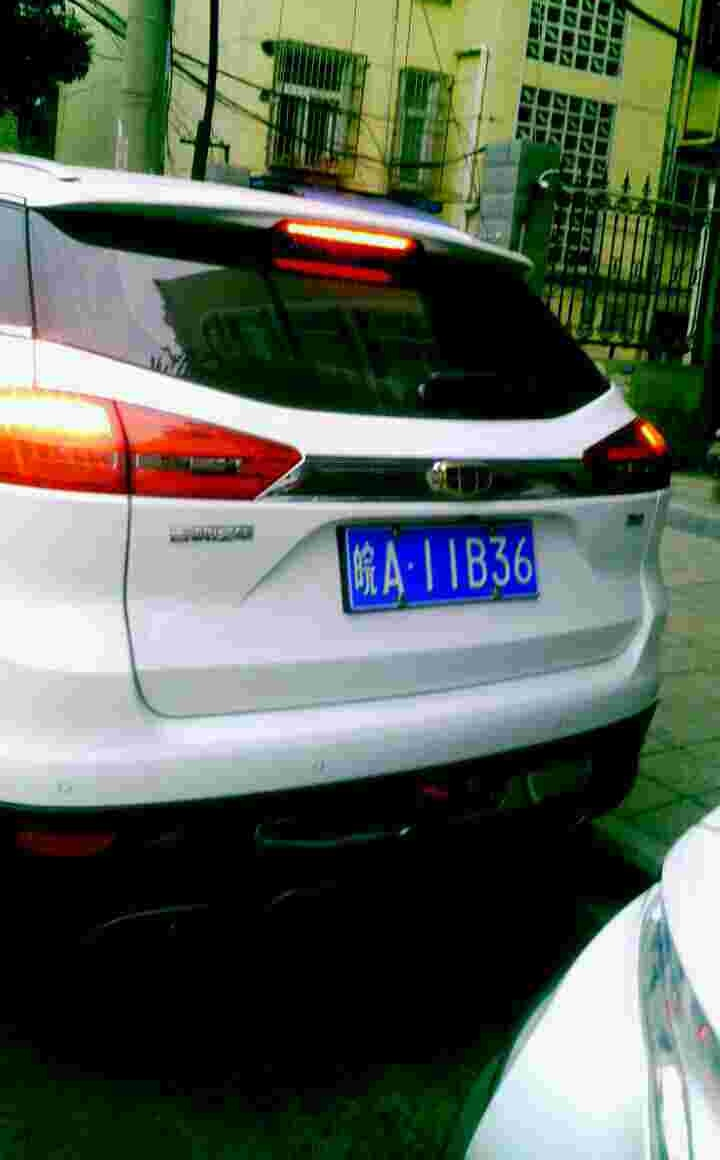license_plate: (344, 524, 553, 618)
